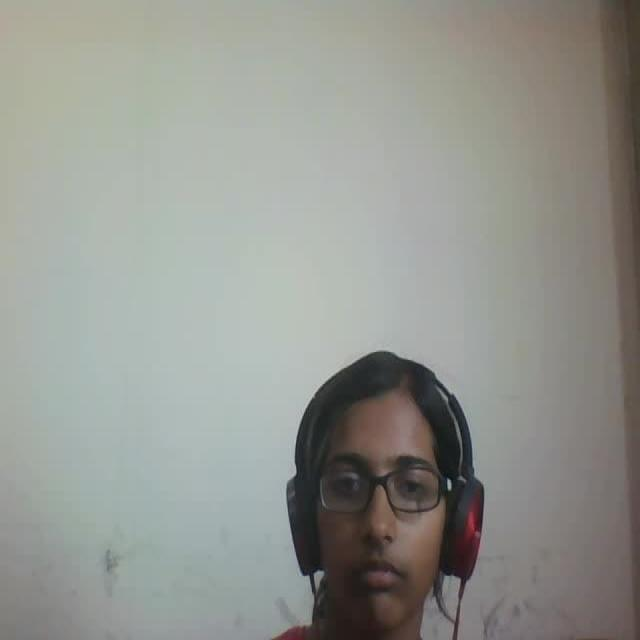Engaged: (262, 342, 502, 640)
